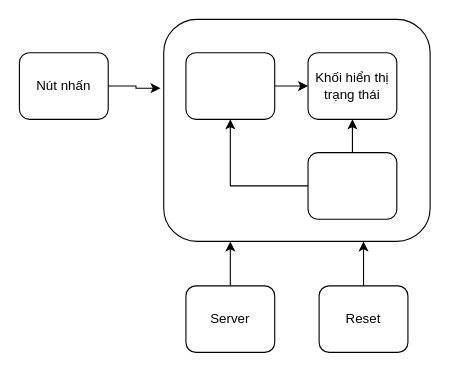
This 450x372 diagram has some shape labels left out. Here are the shapes that lost their labels. From the top down, the centre of each, then its label:
At point (230, 85): "Khối xử lý trung tâm".
At point (352, 185): "Khối nguồn".
